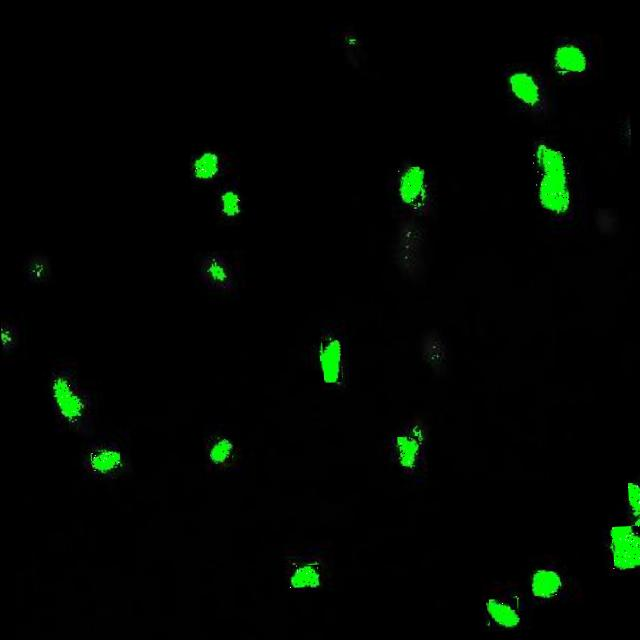Cell: (532, 148, 572, 212), (610, 524, 640, 570), (486, 596, 520, 632), (393, 166, 423, 204), (549, 44, 588, 72), (54, 382, 80, 418), (321, 340, 341, 383), (288, 564, 322, 588), (530, 571, 560, 596), (90, 451, 119, 474), (396, 436, 418, 466), (208, 438, 232, 465), (220, 193, 240, 218), (190, 158, 214, 176), (627, 482, 640, 512)
